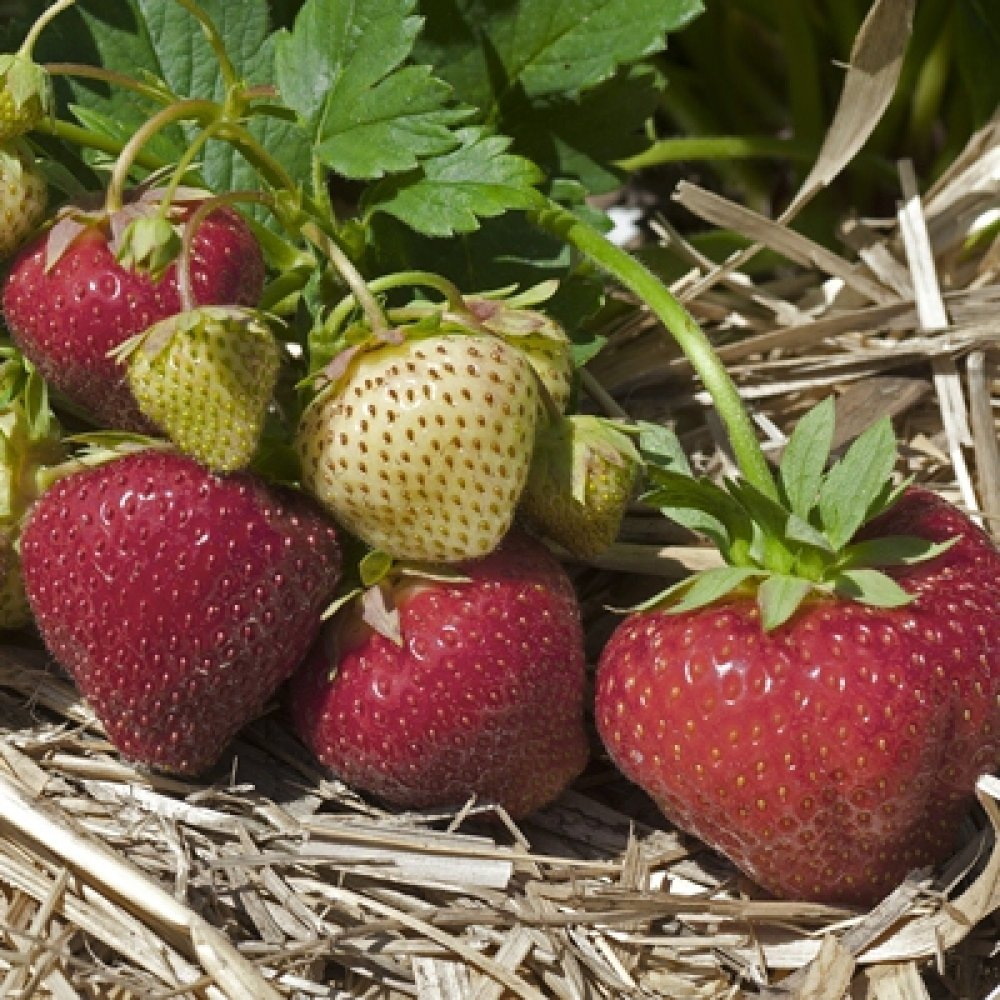ripe_strawberry: (590, 481, 1000, 909), (16, 445, 350, 779), (284, 544, 600, 824), (1, 189, 268, 435)
unripe_strawberry: (296, 324, 542, 566), (129, 306, 287, 476), (521, 413, 645, 563), (486, 303, 578, 419), (1, 140, 55, 262)
